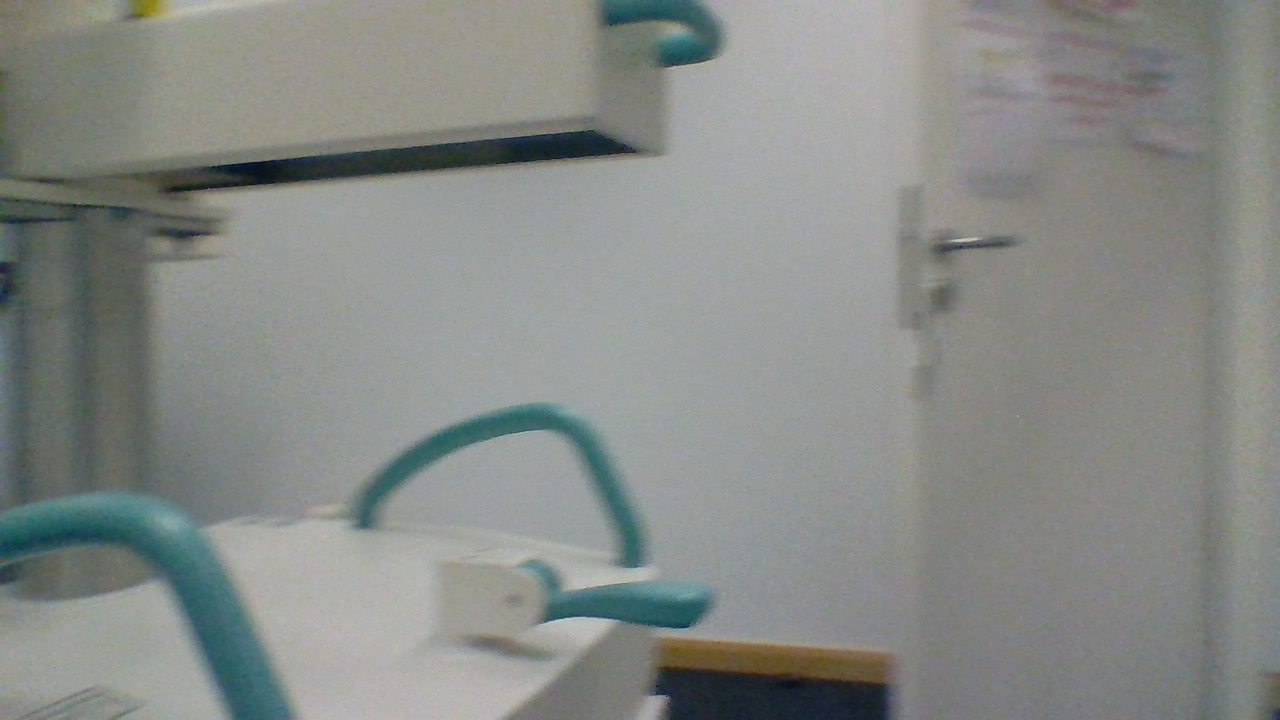carmBACK: (431, 544, 716, 644)
